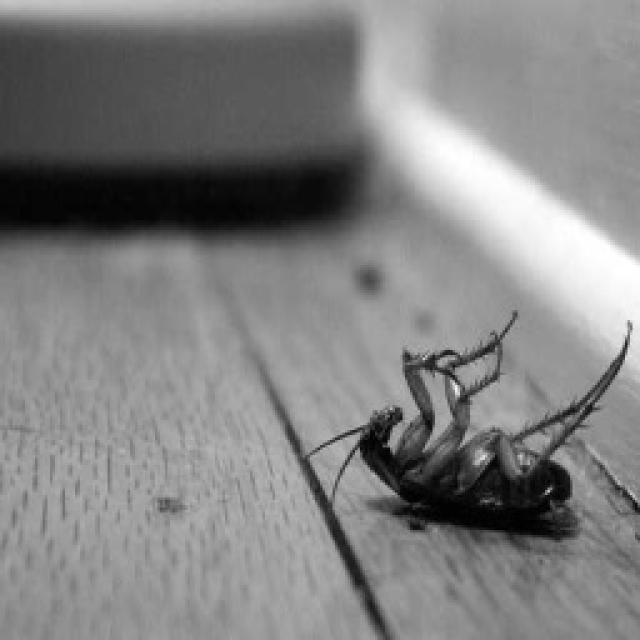cockroach: (303, 305, 635, 541)
